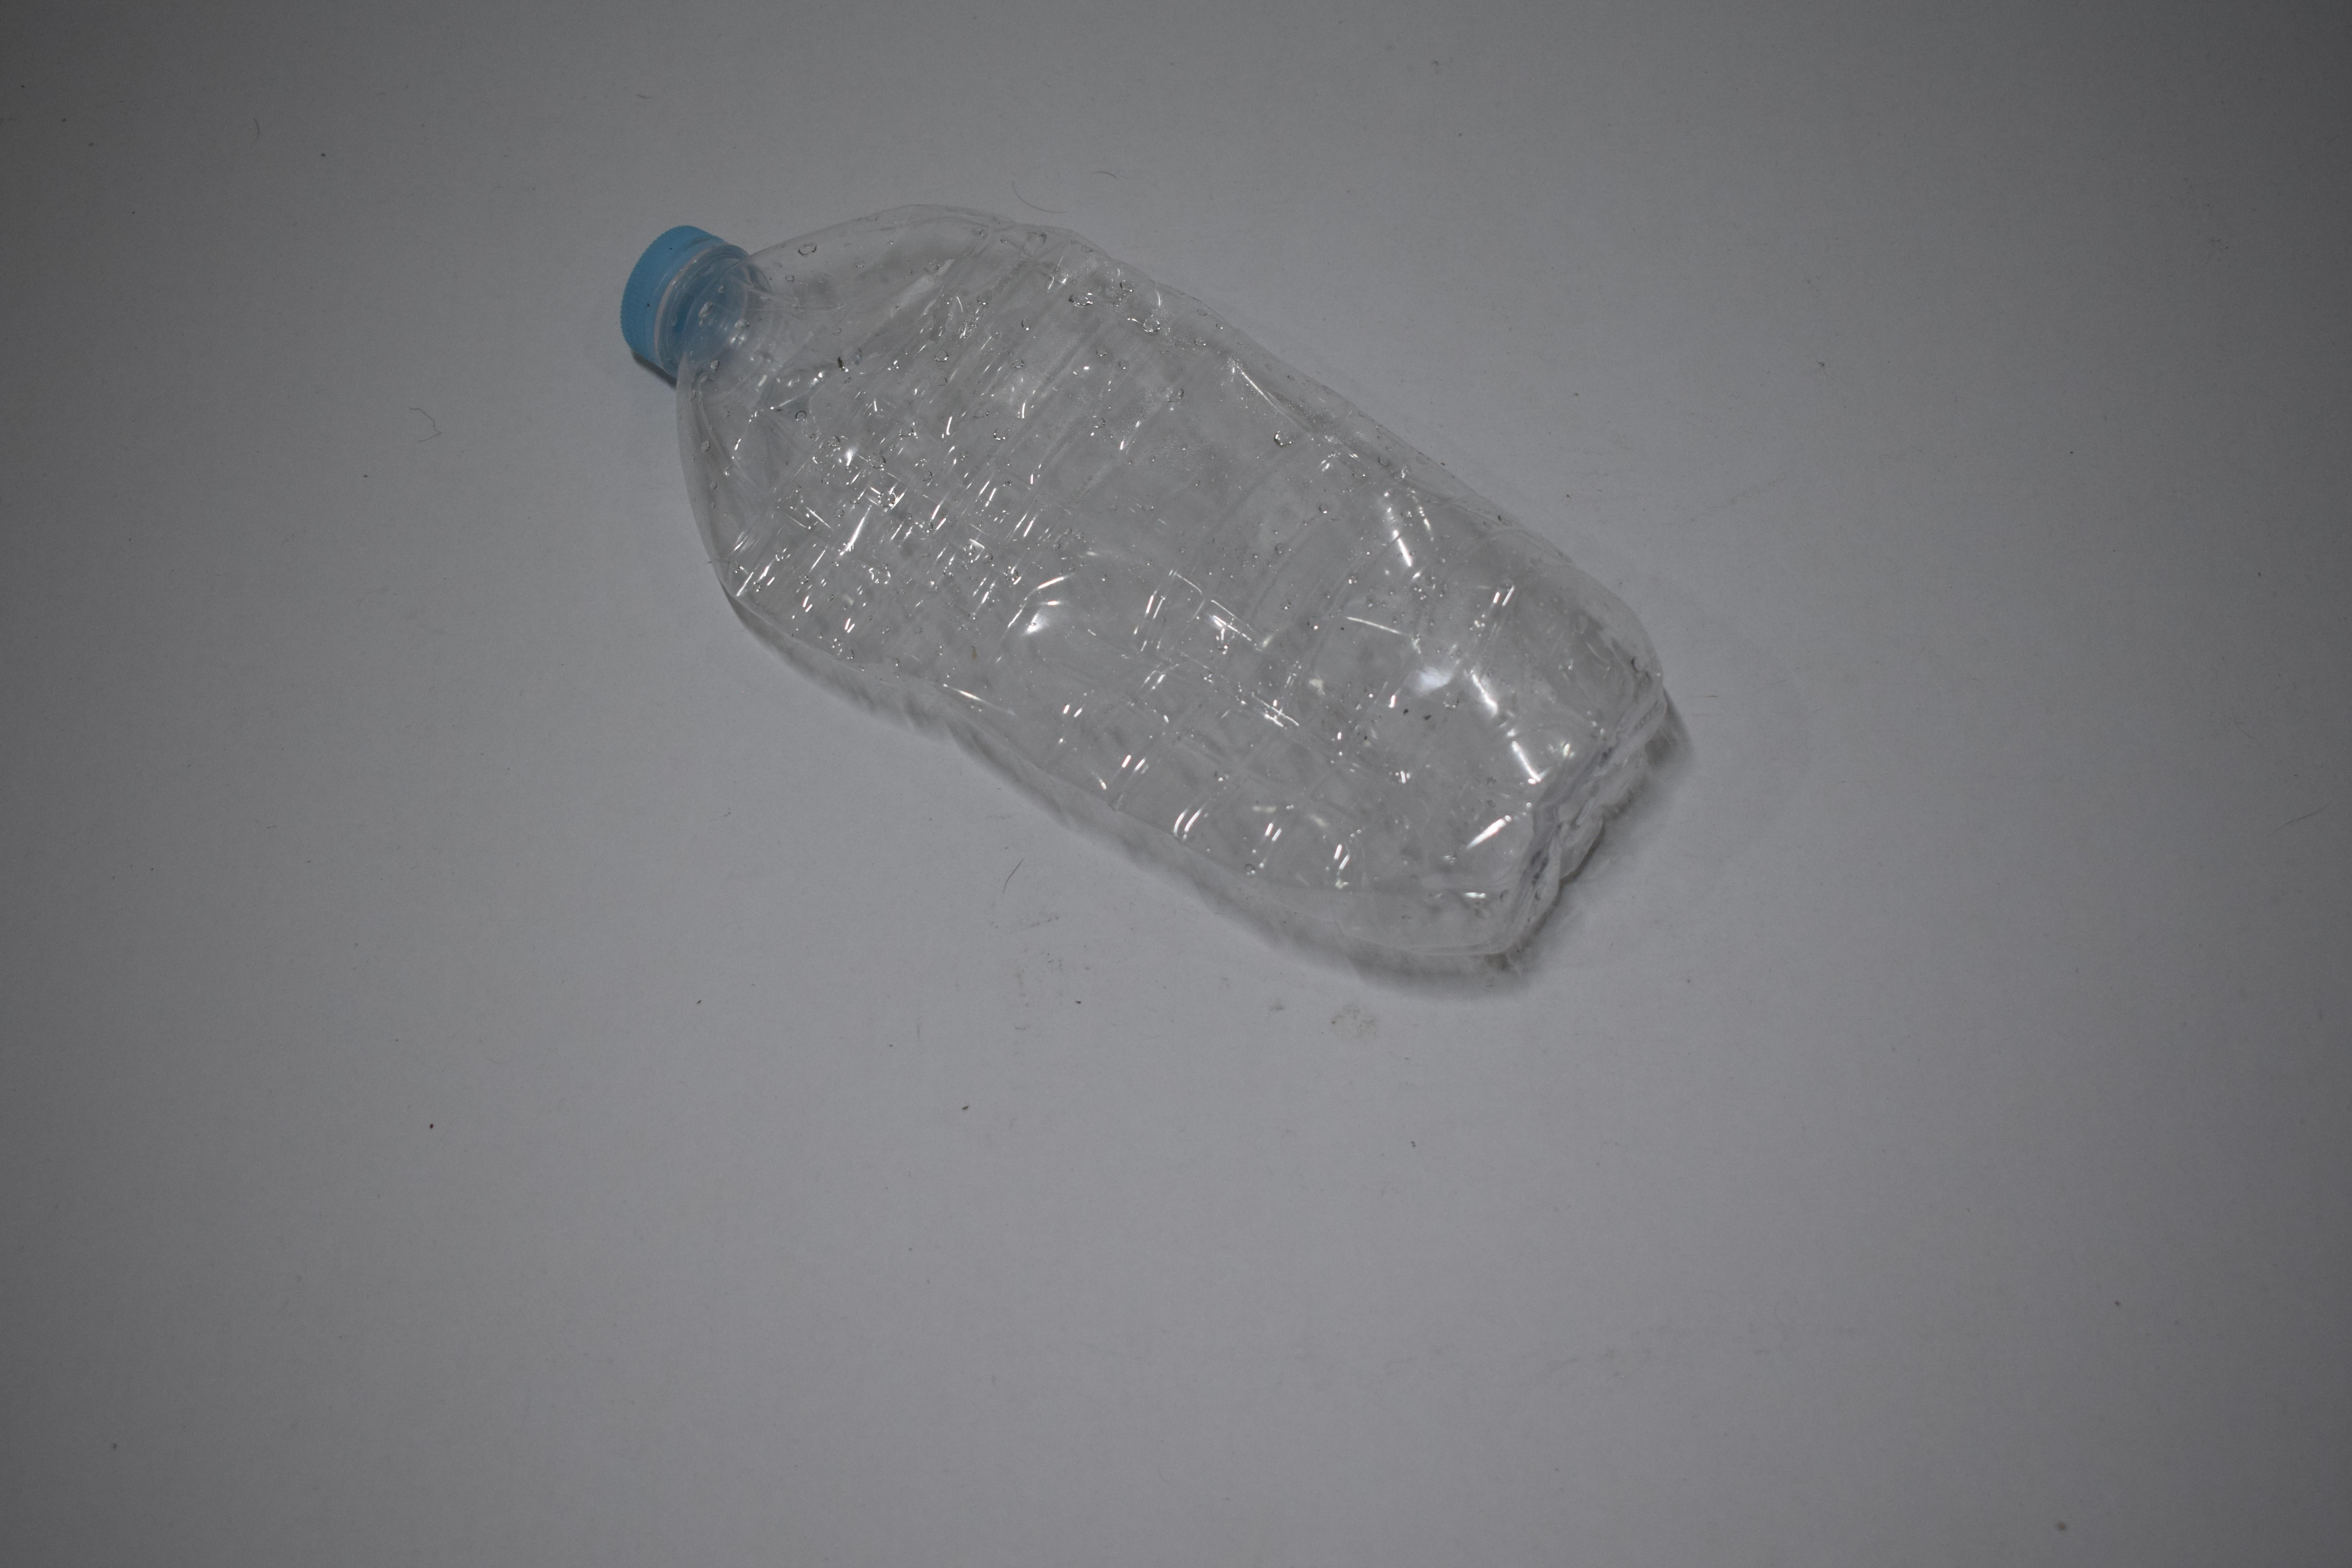bottle: (674, 592, 1631, 604)
